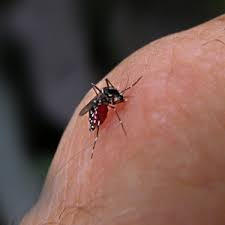dengue_mosquito: (78, 76, 133, 158)
